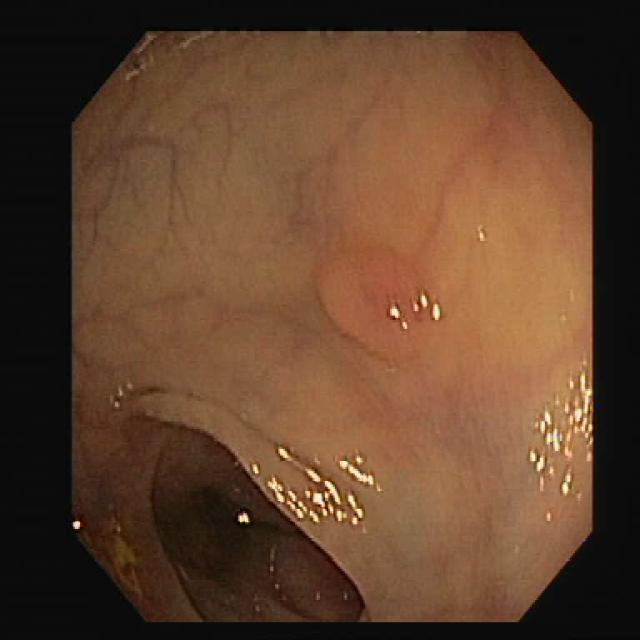tumor: (317, 242, 443, 362)
